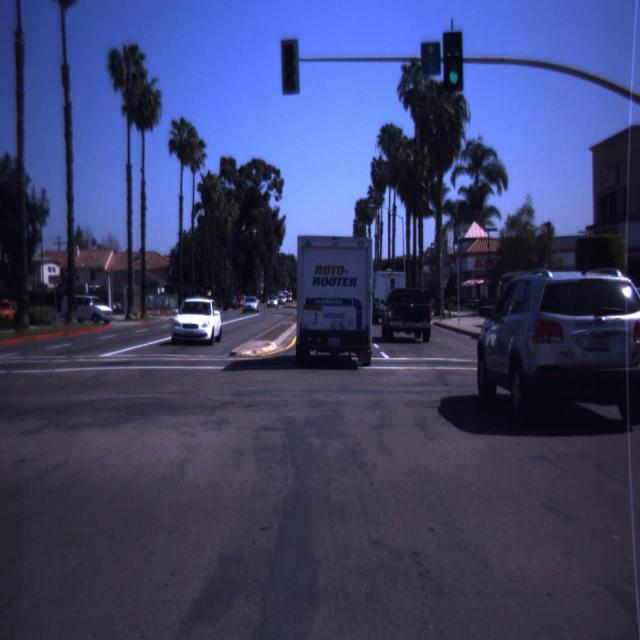arka_lamba: (281, 39, 300, 95)
yesil: (443, 33, 463, 90)
